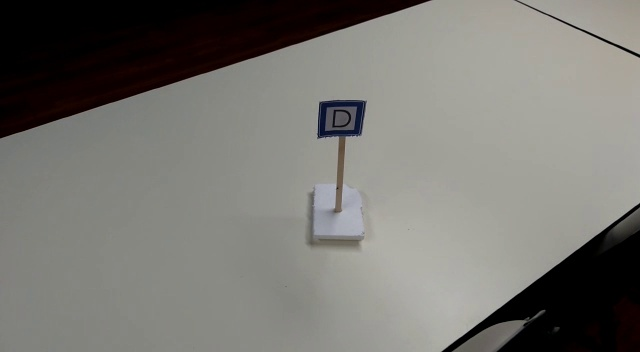durak: (319, 100, 362, 137)
